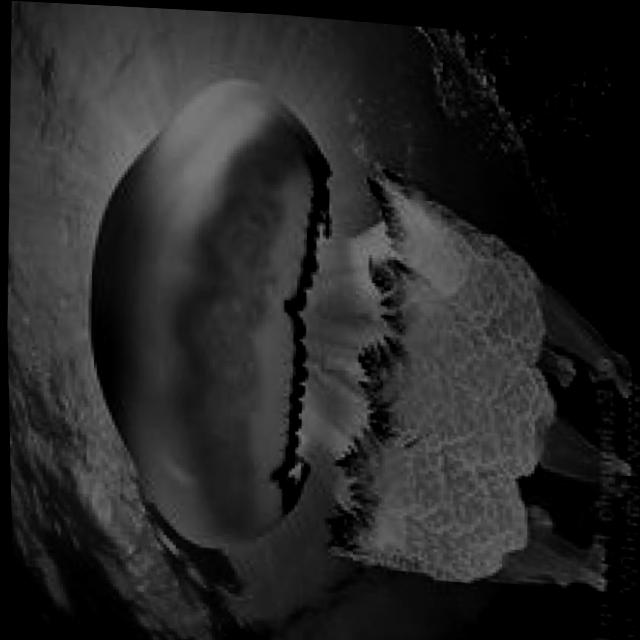Human: (70, 59, 640, 596)
